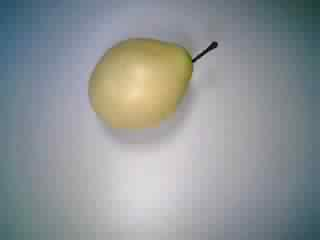pear: (77, 24, 224, 142)
